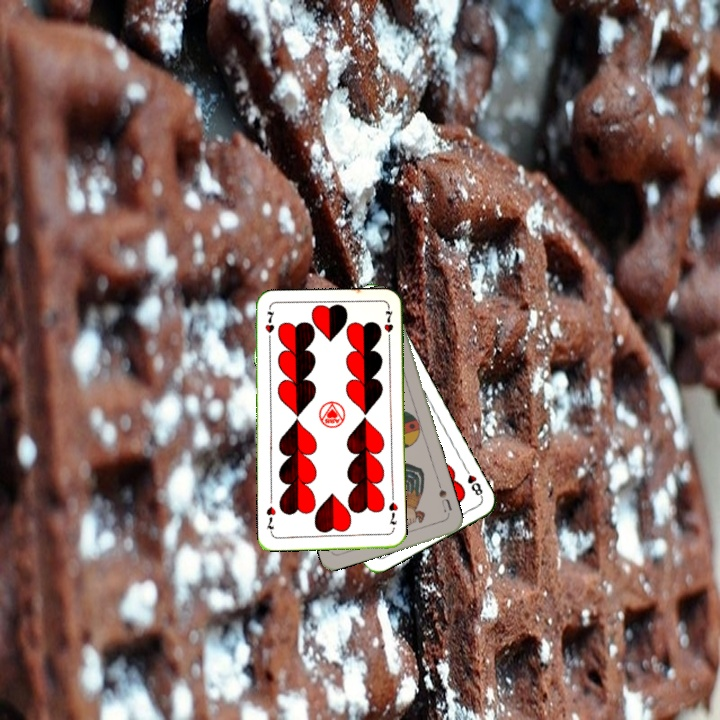H7: (261, 307, 277, 346), (385, 498, 400, 527)
H8: (460, 463, 485, 500)
SU: (435, 485, 455, 515)
